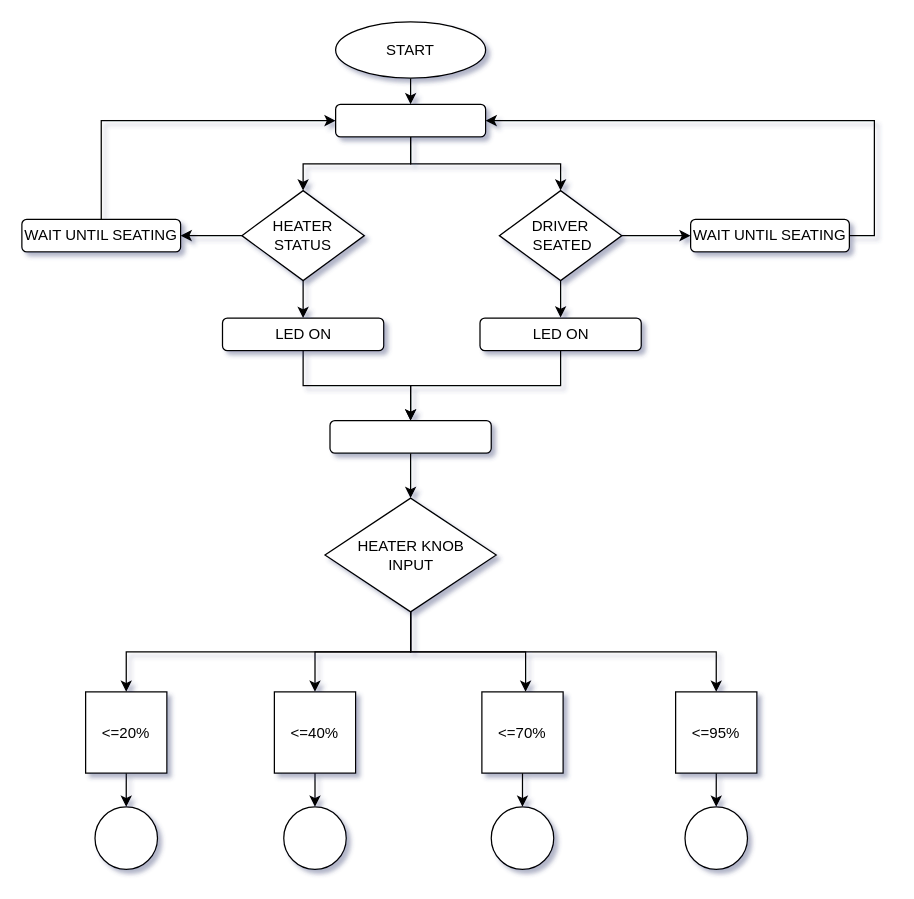
The diagram is 914 pixels wide and 899 high, and some of its shapes have lost their labels. Here are the shapes that lost their labels. From the top down, the centre of each, then its label:
[410,120]: SENSING INPUT
[410,436]: CHECK PASS LED ON
[126,837]: 20 C
[314,837]: 25 C
[522,837]: 29 C
[716,837]: 33C
